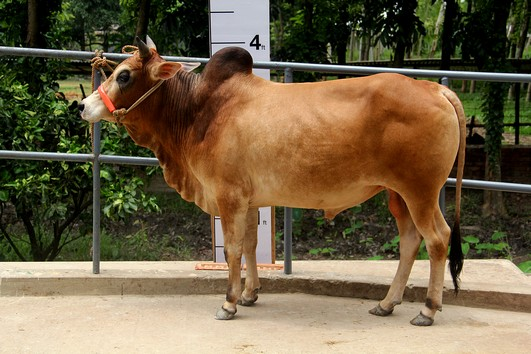cow: (72, 34, 466, 333)
